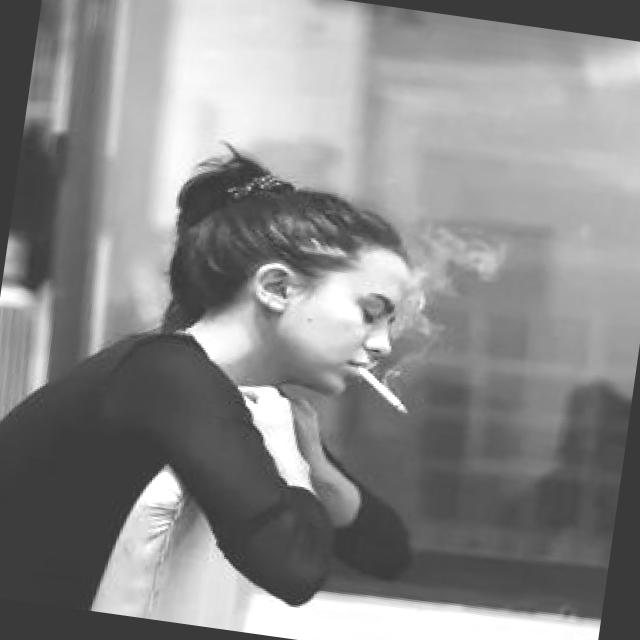cigarette: (345, 357, 426, 421)
